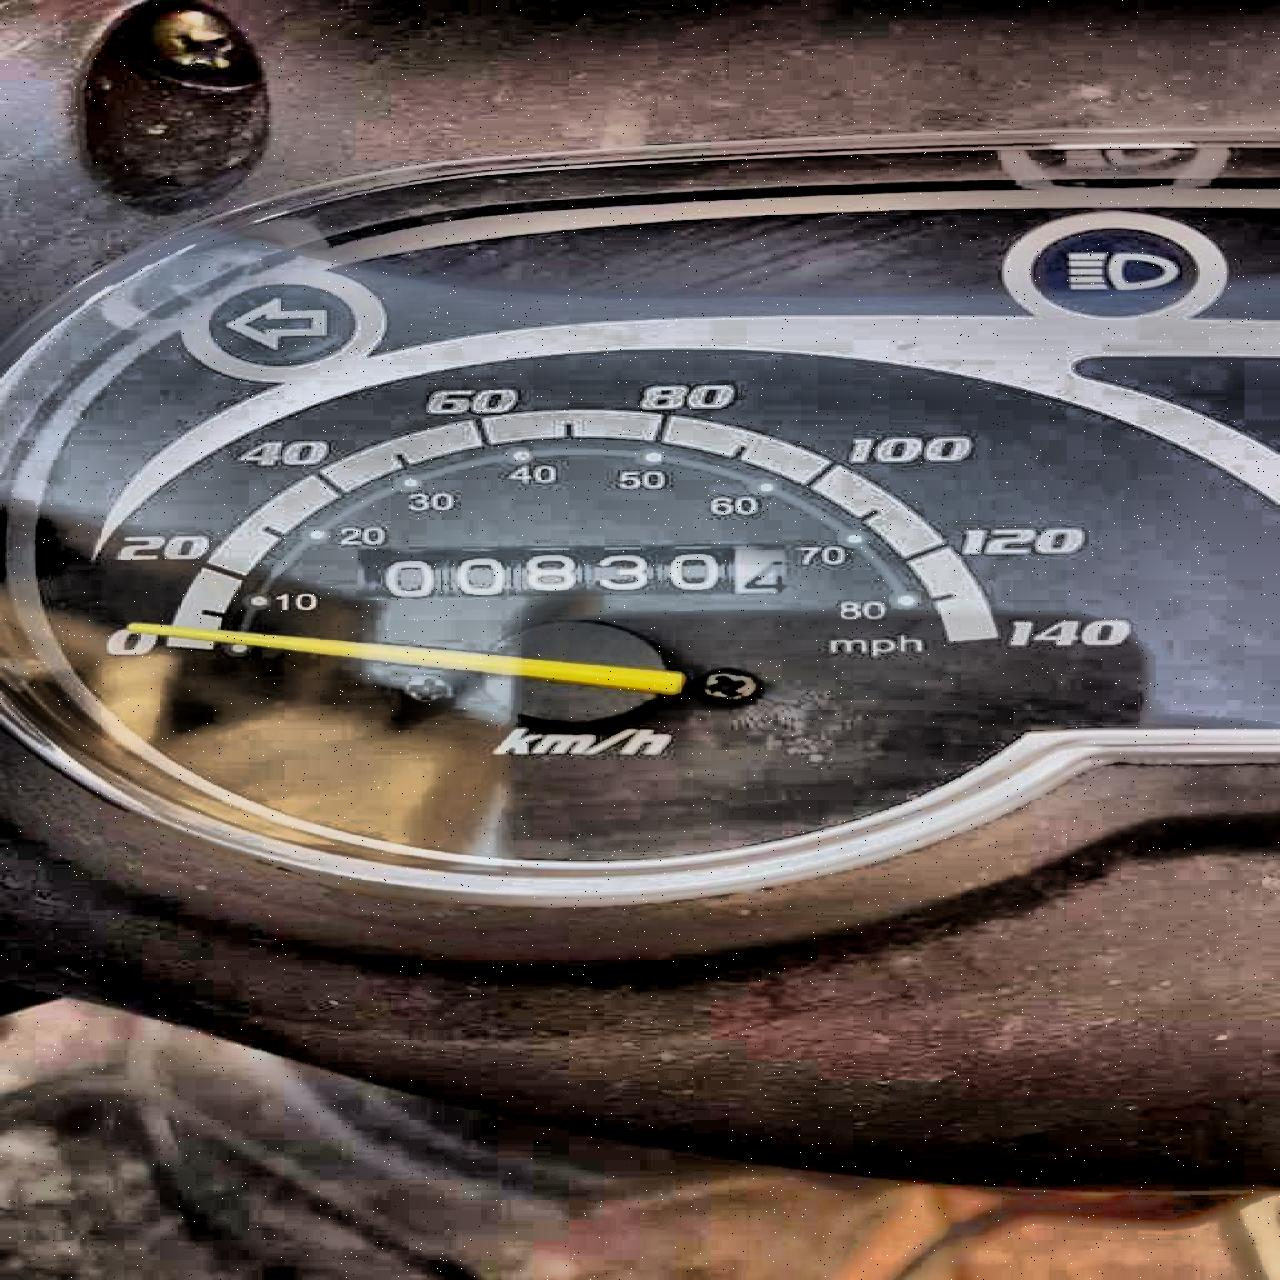0: (454, 554, 504, 595), (382, 558, 434, 598), (665, 551, 717, 588)
3: (593, 553, 647, 588)
4: (742, 560, 789, 594)
8: (523, 554, 573, 590)
odometer: (349, 543, 789, 600)
